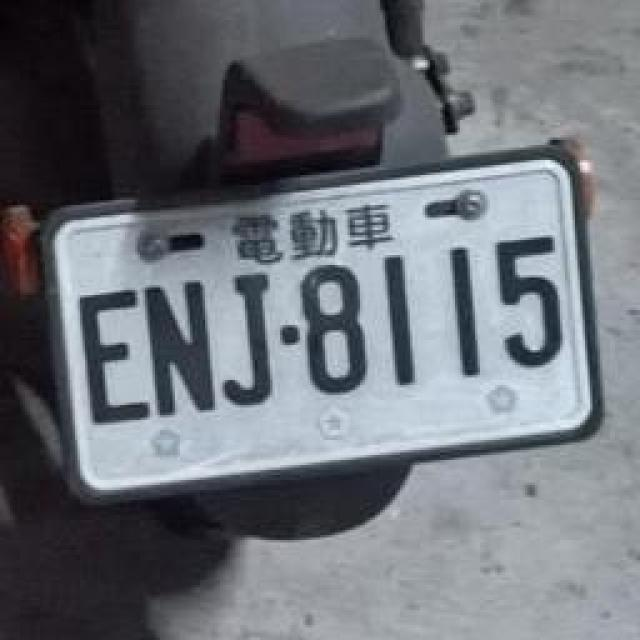W: (35, 135, 617, 505)
